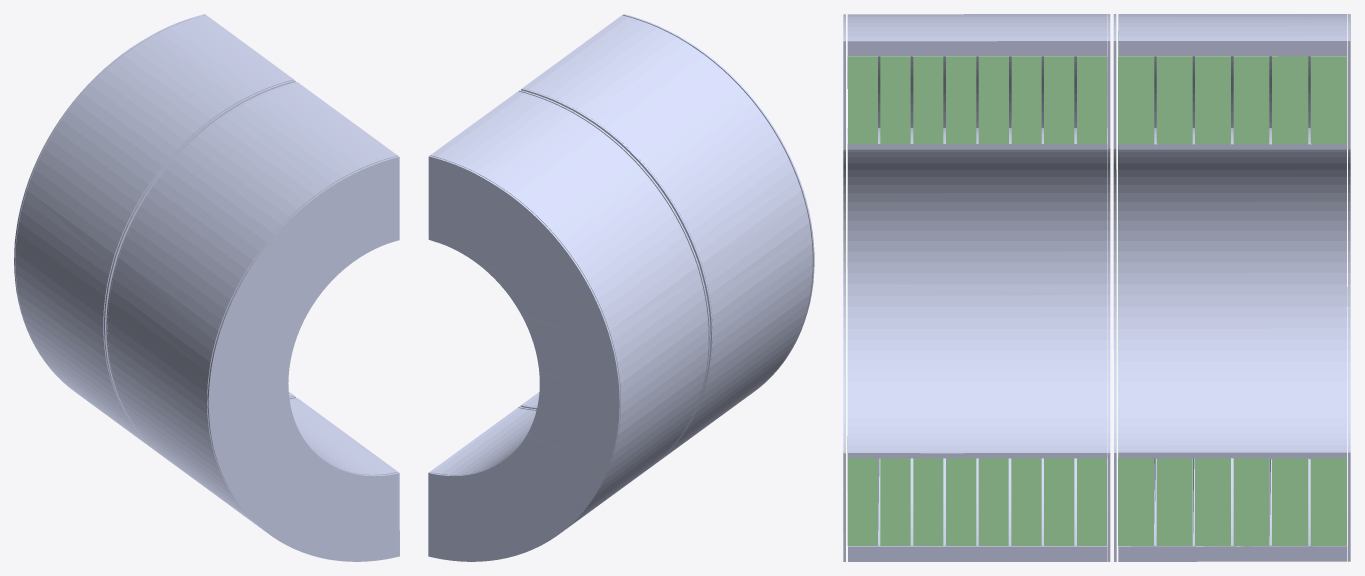
File: TRT-SideA-cut2.glb
The picture shows the model from 3 angles, left to right: view 1: azimuth 30°, elevation 25°; view 2: azimuth 150°, elevation 25°; view 3: azimuth 270°, elevation 25°; orthographic projection. The views are drawn at different scales.
Parts seen in each view (by area): view 1: null; view 2: null; view 3: null.
Part boxes in pixels (x1,y1,x2,y2): null: [14, 14, 399, 561]; null: [428, 14, 814, 561]; null: [843, 14, 1350, 561].
Bounding box in the file's own units: 1.07 × 2.14 × 1.89.
